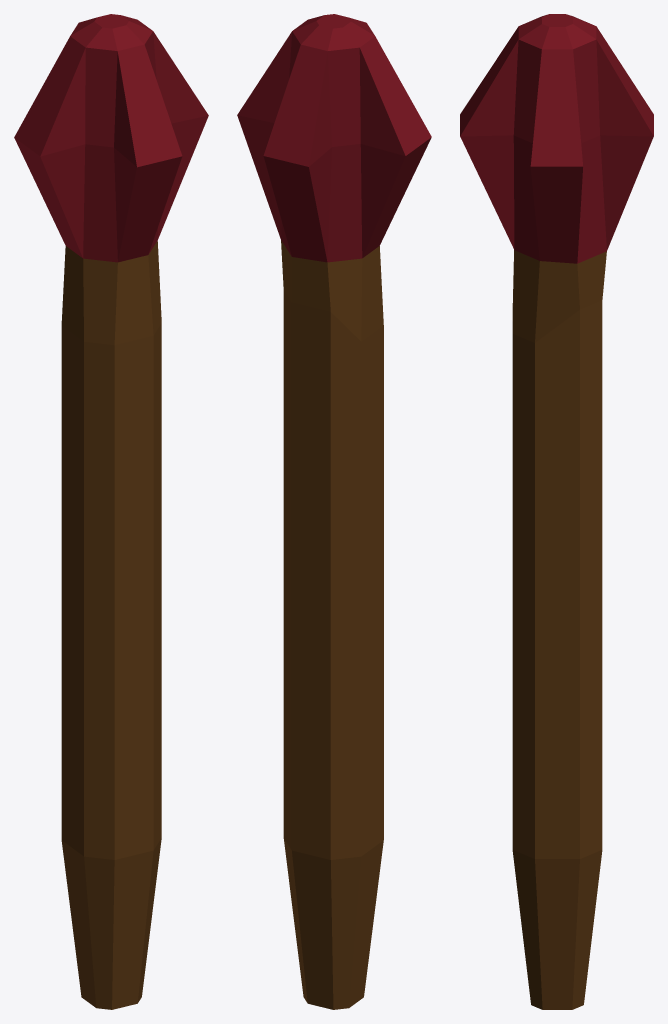
Rendered from CrimsonMace.glb.
3 renders of one model, left to right at view 1: azimuth 30°, elevation 25°; view 2: azimuth 150°, elevation 25°; view 3: azimuth 270°, elevation 25°, orthographic.
Visible parts, largest first — view 1: Mace; view 2: Mace; view 3: Mace.
Boxes of the visible parts, x1,y1,x2,y2 form: Mace: [14, 14, 208, 1009]; Mace: [237, 14, 431, 1009]; Mace: [460, 14, 653, 1009].
Size of the model in its own units: 0.1021 by 0.5647 by 0.1013.
